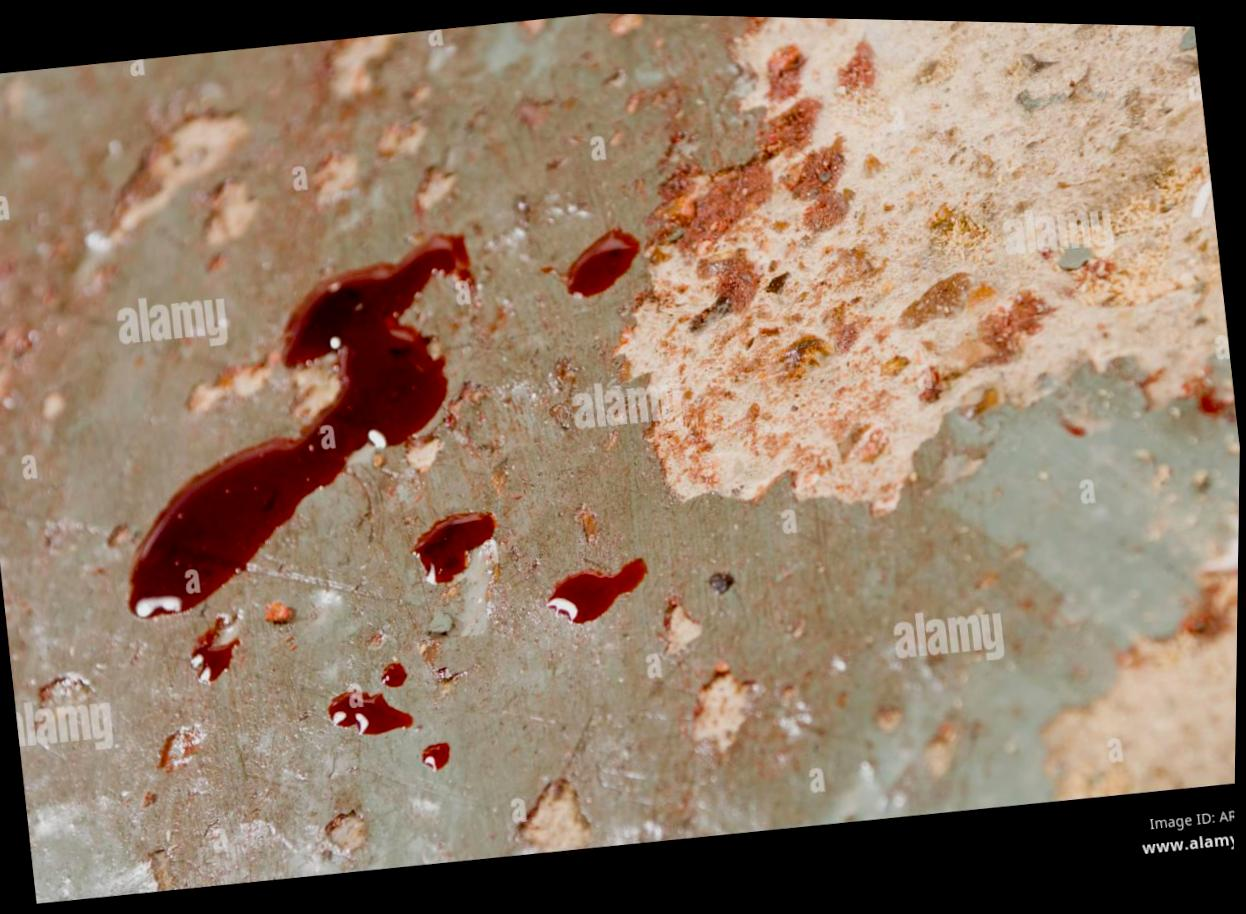Fire: (130, 231, 477, 618), (546, 555, 650, 620), (415, 509, 497, 580), (561, 225, 640, 293), (330, 688, 415, 733), (194, 615, 243, 678), (423, 739, 452, 767), (382, 660, 409, 683)
